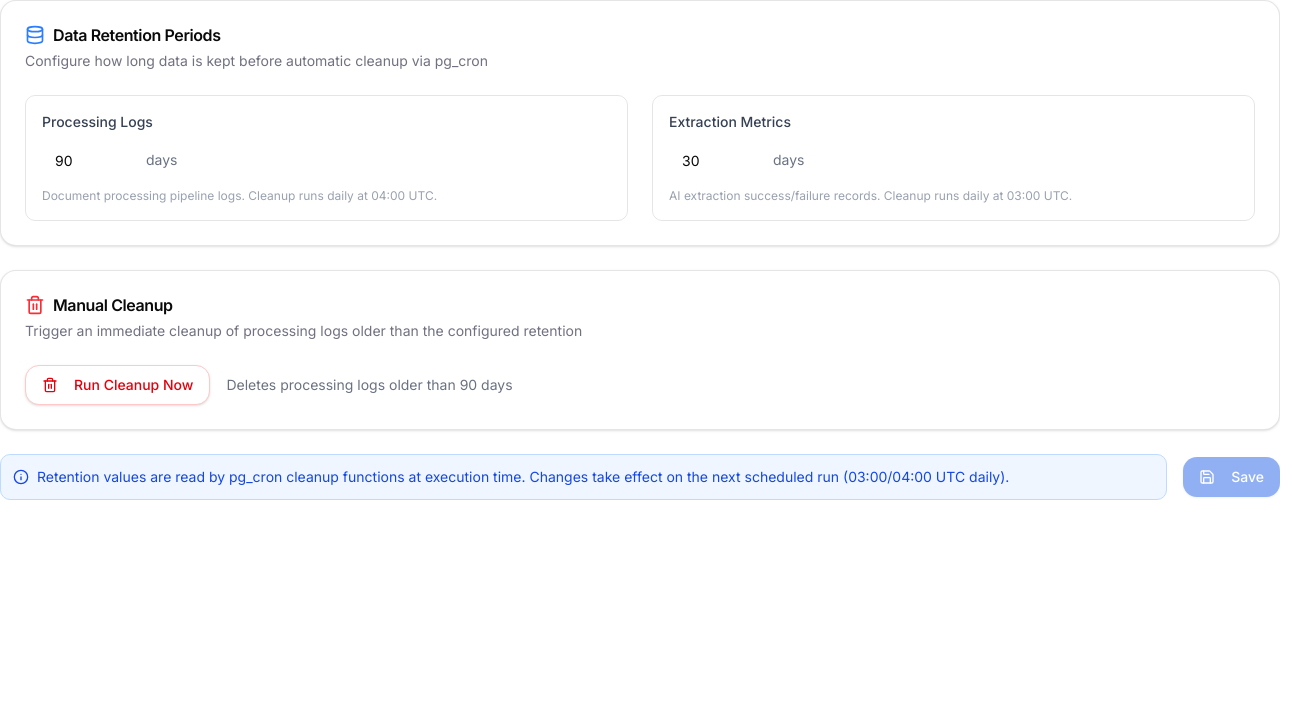
Test case: RetentionSettingsPanel › validation rejects 0 or values > 365
This screenshot has width=1292, height=720.
Replace the text in the 1st number field with "0". click: point(90, 160)
box: [42,140,138,180]
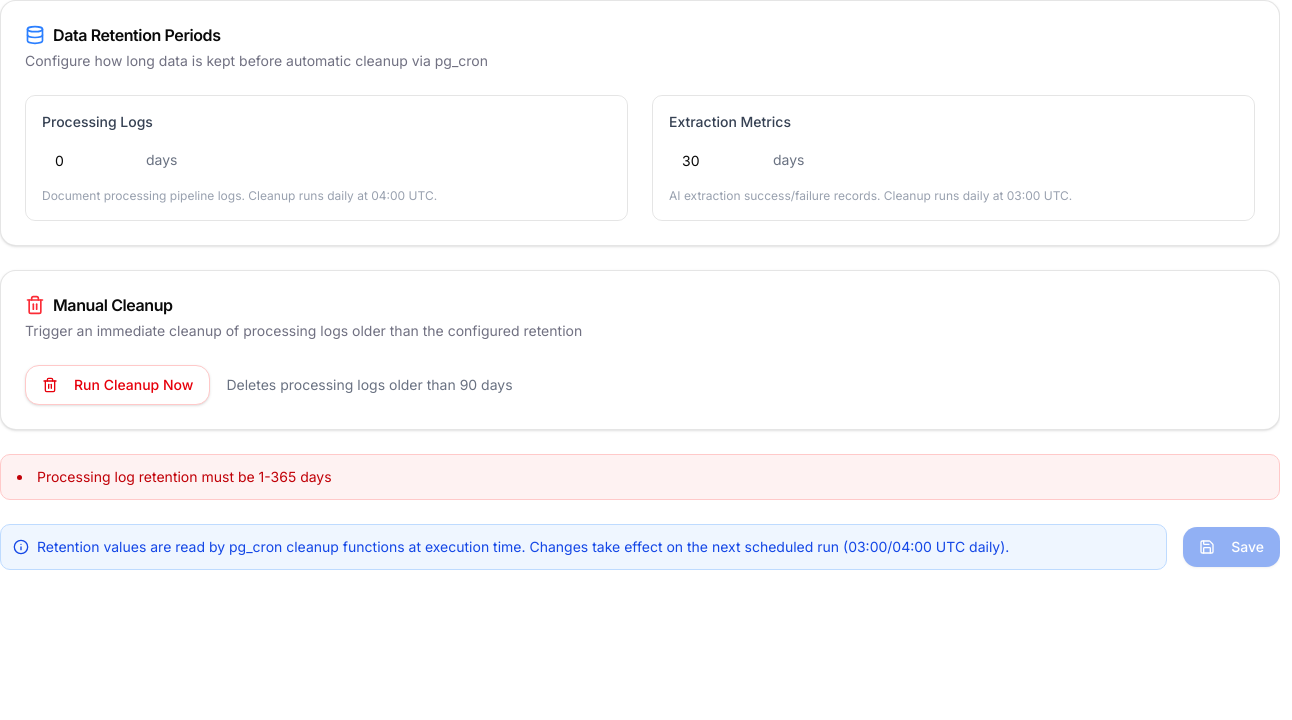
Replace the text in the number field below "Extraction Metrics" with "999". click: point(717, 160)
box: [669,140,765,180]
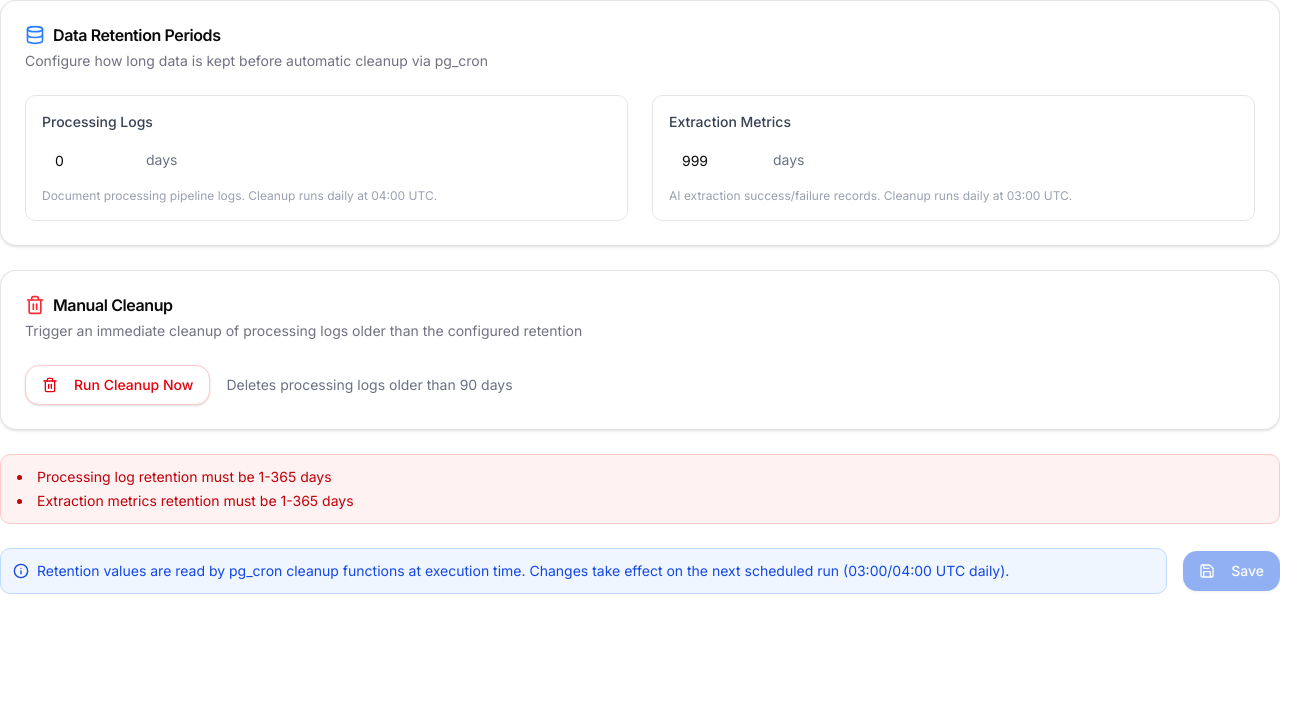
expect the list item "Processing log retention must be 1-365 days" is shown: met, box [37,468,332,485]
expect the list item "Extraction metrics retention must be 1-365 days" is shown: met, box [37,492,354,509]
